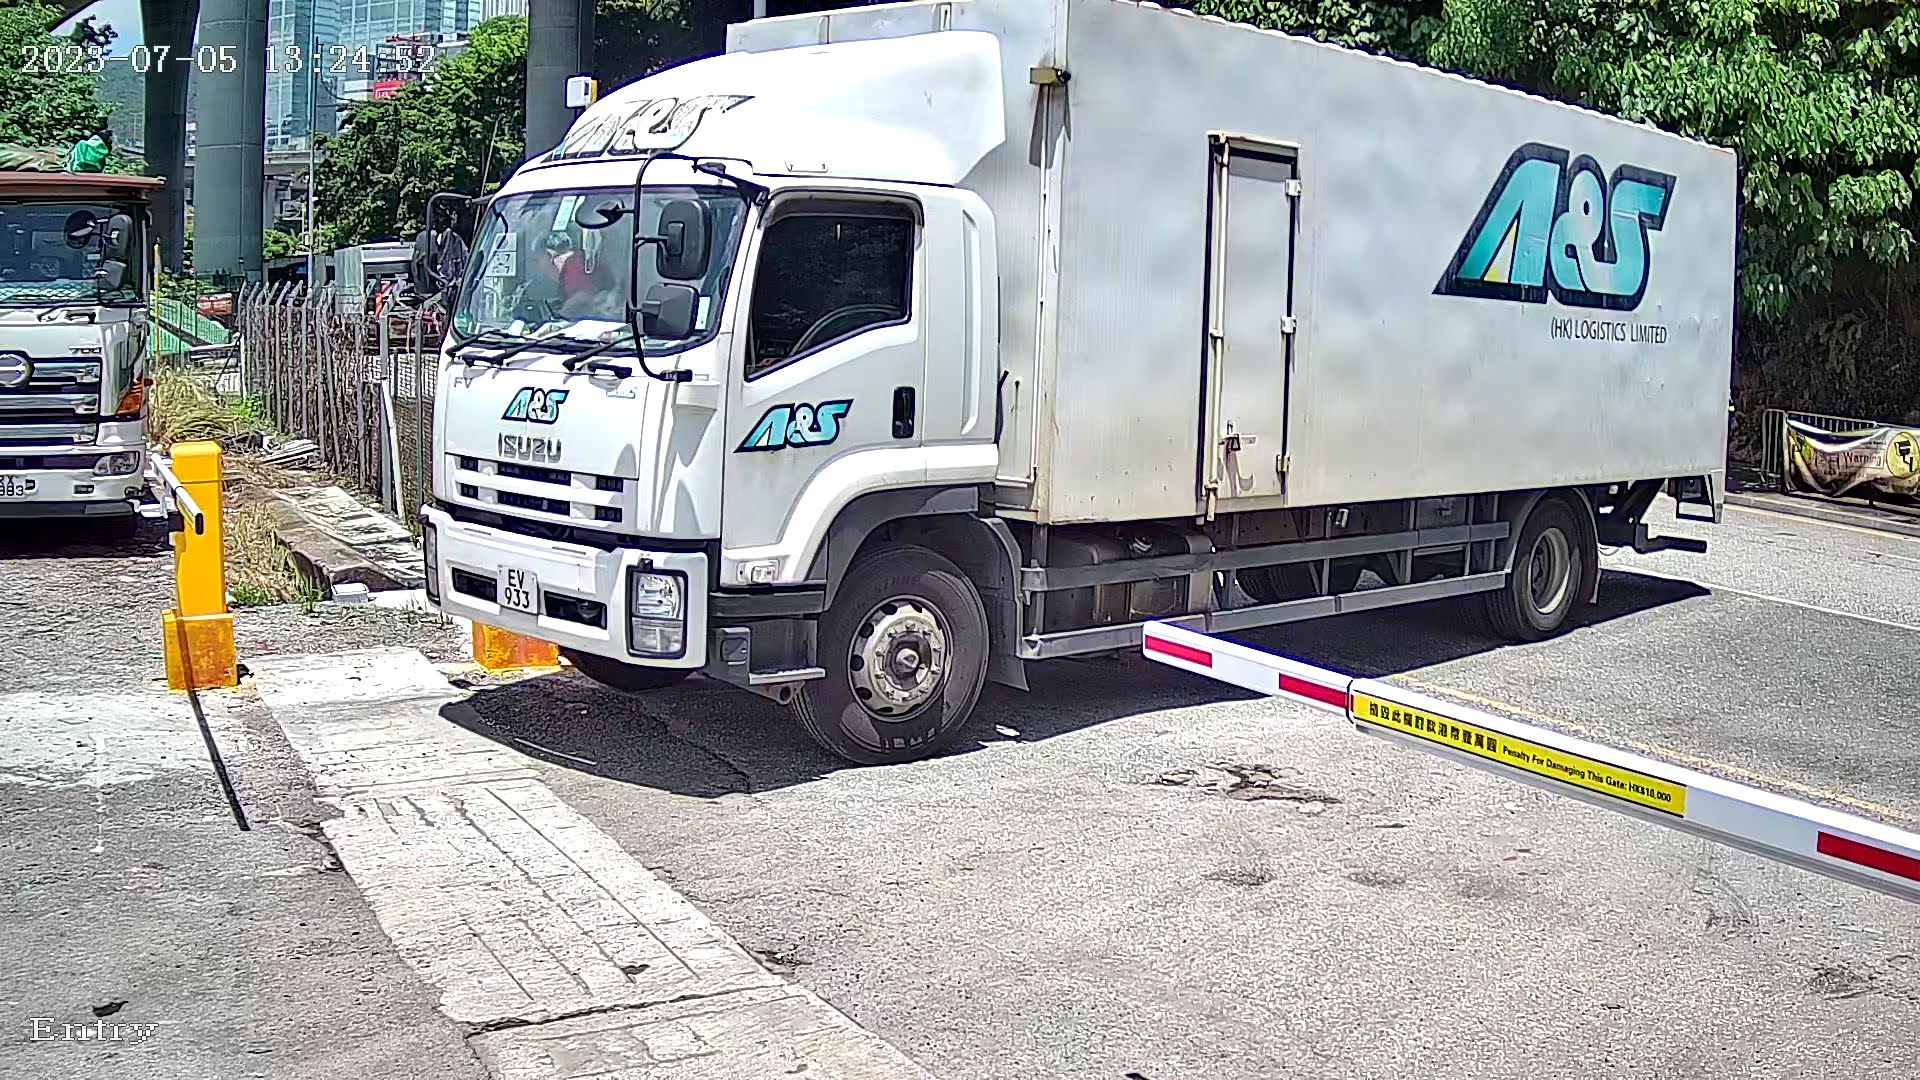truck: (396, 1, 1733, 775)
